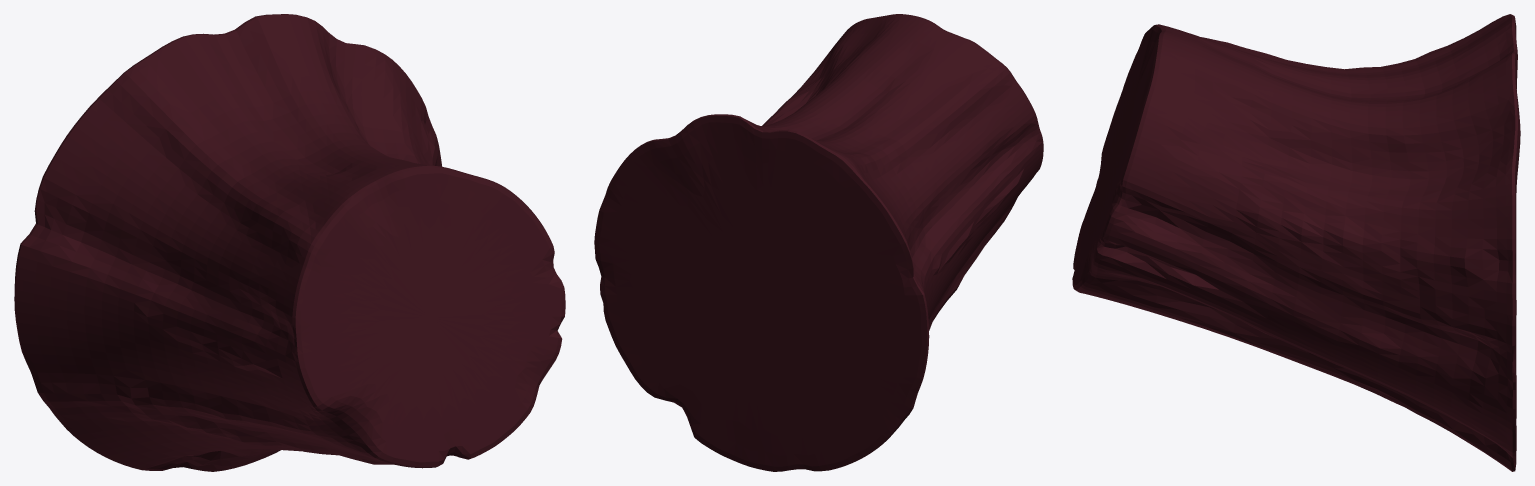
The model's file is tree stomp sculpture.obj.
3 renders of one model, left to right at view 1: azimuth 30°, elevation 25°; view 2: azimuth 150°, elevation 25°; view 3: azimuth 270°, elevation 25°, orthographic. The views are drawn at different scales.
Visible parts, largest first — view 1: tree_stomp_Cylinder; view 2: tree_stomp_Cylinder; view 3: tree_stomp_Cylinder.
Boxes of the visible parts, box(x1,y1,x2,y2) form: tree_stomp_Cylinder: box(14, 14, 565, 471); tree_stomp_Cylinder: box(594, 14, 1043, 471); tree_stomp_Cylinder: box(1072, 14, 1520, 471).
Bounding box in the file's own units: 2.87 × 2.85 × 2.82.
